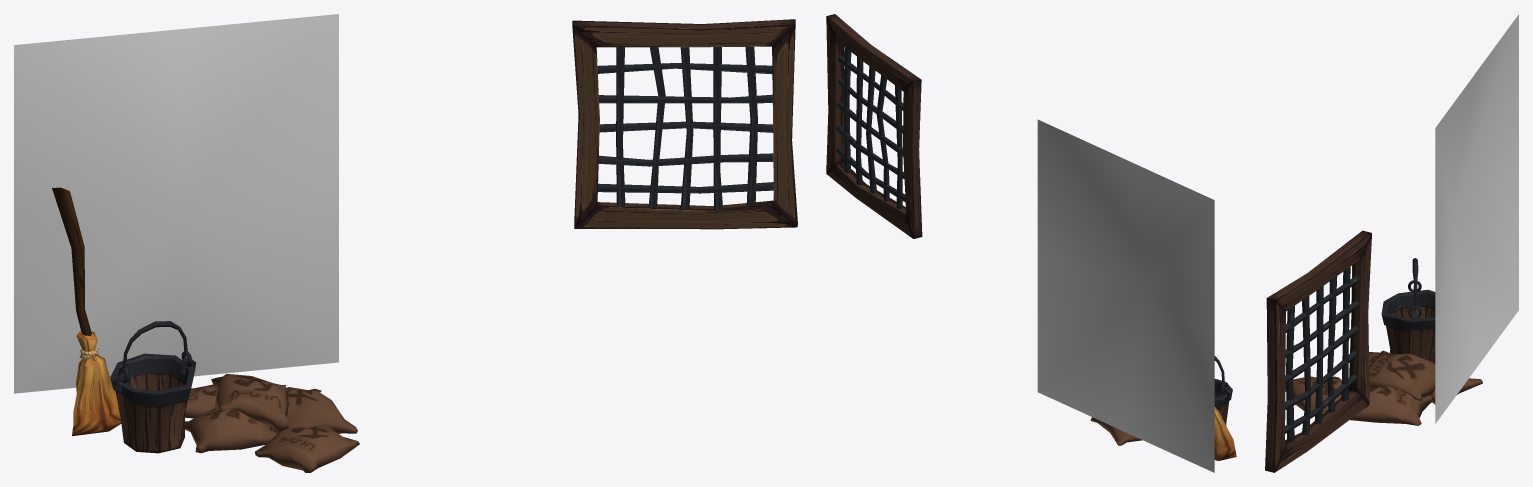
Rendered from RoomsBathroomProps.fbx.
The picture shows the model from 3 angles, left to right: view 1: azimuth 30°, elevation 25°; view 2: azimuth 150°, elevation 25°; view 3: azimuth 270°, elevation 25°; orthographic projection. The views are drawn at different scales.
Visible parts, largest first — view 1: SM_PROP_spiderweb_dungeon_03.001, SM_PROP_trap_floor_dungeon_02.001, SM_PROP_broom_dungeon.001; view 2: SM_PROP_spiderweb_dungeon_03.001, SM_PROP_trap_floor_dungeon_02.001, SM_PROP_broom_dungeon.001; view 3: SM_PROP_spiderweb_dungeon_03.001, SM_PROP_trap_floor_dungeon_02.001, SM_PROP_broom_dungeon.001.
Boxes of the visible parts, x1,y1,x2,y2 form: SM_PROP_spiderweb_dungeon_03.001: (14, 14, 338, 393); SM_PROP_trap_floor_dungeon_02.001: (572, 19, 797, 229); SM_PROP_broom_dungeon.001: (52, 187, 359, 472); SM_PROP_spiderweb_dungeon_03.001: (1037, 119, 1214, 472); SM_PROP_trap_floor_dungeon_02.001: (826, 14, 922, 238); SM_PROP_broom_dungeon.001: (1090, 356, 1236, 460); SM_PROP_spiderweb_dungeon_03.001: (1435, 14, 1518, 423); SM_PROP_trap_floor_dungeon_02.001: (1265, 230, 1371, 472); SM_PROP_broom_dungeon.001: (1285, 258, 1482, 425).
Size of the model in its own units: 5.17 by 2.85 by 2.09.
Materials: 5 (4 with a texture image).
